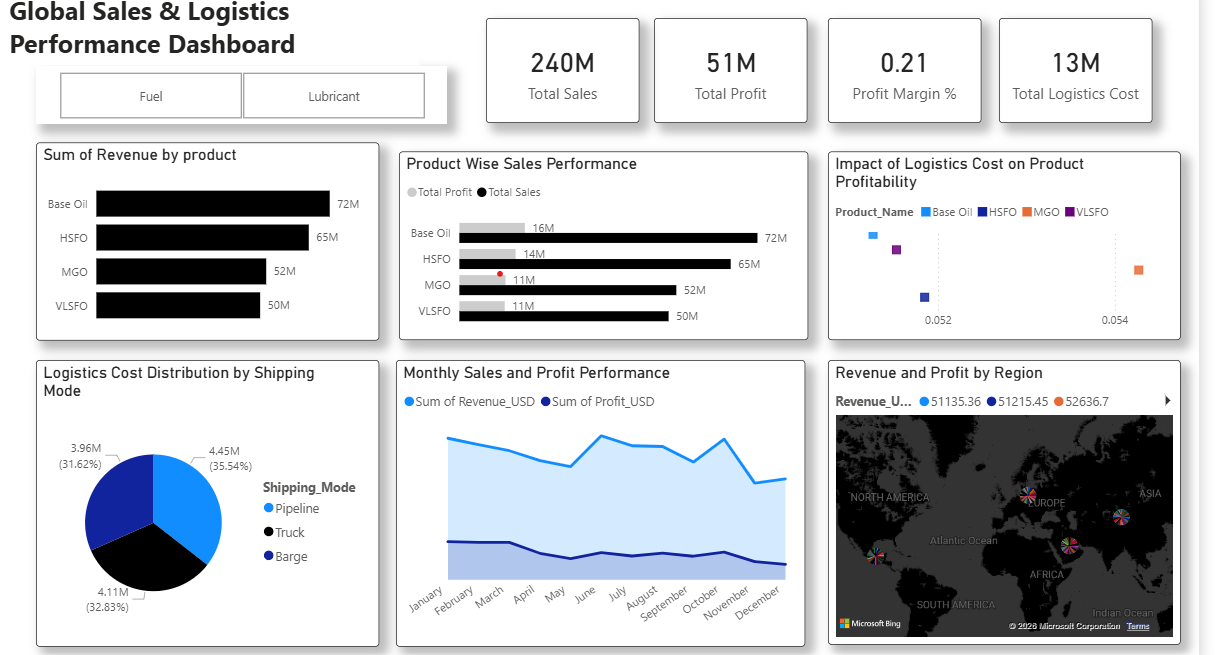

The dashboard page shown, as its layout file describes it:
{"tool":"powerbi","page":{"name":"Page 1","canvas":[1280,720],"ordinal":0},"visuals":[{"type":"clusteredBarChart","title":"Sum of Revenue by product","fields":{"Category":["fact_data.Product_Name"],"Y":["Sum(fact_data.Revenue_USD)"]},"box":[48,164,364,210],"z":0},{"type":"slicer","fields":{"Values":["fact_data.Category"]},"box":[48,82,436,62],"z":1000},{"type":"clusteredBarChart","title":" Product Wise Sales Performance ","fields":{"Category":["fact_data.Product_Name"],"Y":["measure.Total Profit","measure.Total Sales"]},"box":[432,174,434,200],"z":2000},{"type":"scatterChart","title":" Impact of Logistics Cost on Product Profitability","fields":{"X":["measure.Logistics Cost %"],"Y":["measure.Profit Margin %"],"Series":["fact_data.Product_Name"]},"box":[888,174,374,200],"z":3000},{"type":"areaChart","title":" Monthly Sales and Profit Performance","fields":{"Y":["Sum(fact_data.Revenue_USD)","Sum(fact_data.Profit_USD)"],"Category":["fact_data.Order_Date.Variation.Date Hierarchy.Month"]},"box":[430,394,434,304],"z":5000},{"type":"map","title":" Revenue and Profit by Region","fields":{"Category":["fact_data.Region"],"Series":["fact_data.Revenue_USD"],"Size":["Sum(fact_data.Profit_USD)"]},"box":[888,394,374,302],"z":6000},{"type":"card","fields":{"Values":["measure.Total Sales"]},"box":[525.4,32.1,162.5,111.5],"z":6001},{"type":"card","fields":{"Values":["measure.Total Profit"]},"box":[703,32.1,162.5,111.5],"z":6002},{"type":"card","fields":{"Values":["measure.Profit Margin %"]},"box":[888.2,32.1,162.5,111.5],"z":6003},{"type":"card","fields":{"Values":["measure.Total Logistics Cost"]},"box":[1069.6,32.1,162.5,111.5],"z":6004},{"type":"textbox","box":[14,0,440,82],"z":6005},{"type":"pieChart","title":" Logistics Cost Distribution by Shipping Mode","fields":{"Category":["fact_data.Shipping_Mode","fact_data.Region"],"Y":["measure.Total Logistics Cost"]},"box":[48,394,364,304],"z":6006}]}

Visuals, with their boxes in screenshot pixels (x1, y1, x2, y2):
"Sum of Revenue by product" clusteredBarChart: rect(42, 143, 380, 339)
slicer - fact_data.Category: rect(42, 67, 447, 125)
" Product Wise Sales Performance " clusteredBarChart: rect(399, 152, 803, 339)
" Impact of Logistics Cost on Product Profitability" scatterChart: rect(823, 152, 1172, 339)
" Monthly Sales and Profit Performance" areaChart: rect(397, 357, 801, 640)
" Revenue and Profit by Region" map: rect(823, 357, 1172, 638)
card - measure.Total Sales: rect(486, 20, 637, 124)
card - measure.Total Profit: rect(651, 20, 802, 124)
card - measure.Profit Margin %: rect(824, 20, 975, 124)
card - measure.Total Logistics Cost: rect(992, 20, 1144, 124)
textbox: rect(10, 0, 419, 67)
" Logistics Cost Distribution by Shipping Mode" pieChart: rect(42, 357, 380, 640)
